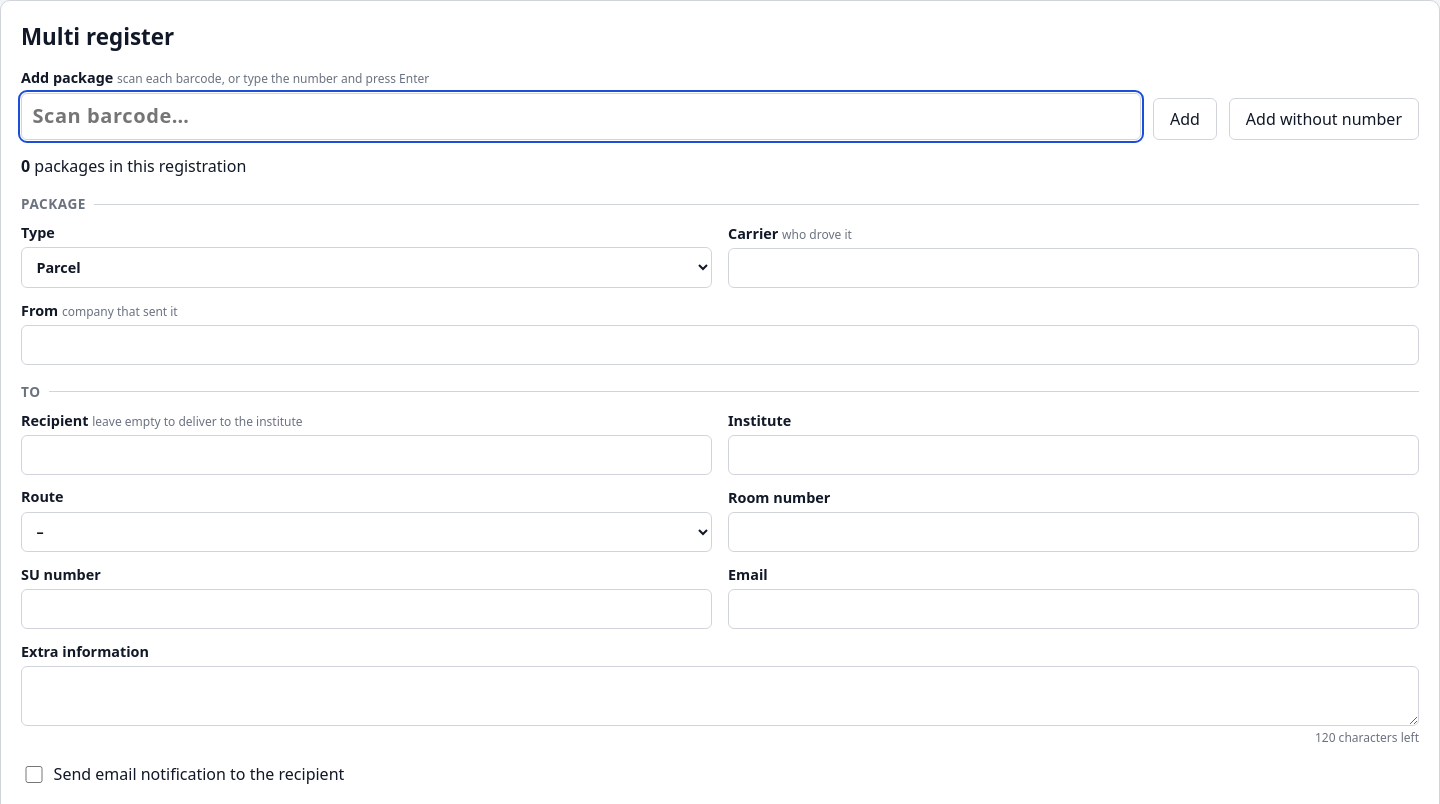
it: packages without a number can be added and removed
Click the button "Add without number" at (1324, 119), box [1229, 98, 1419, 140]
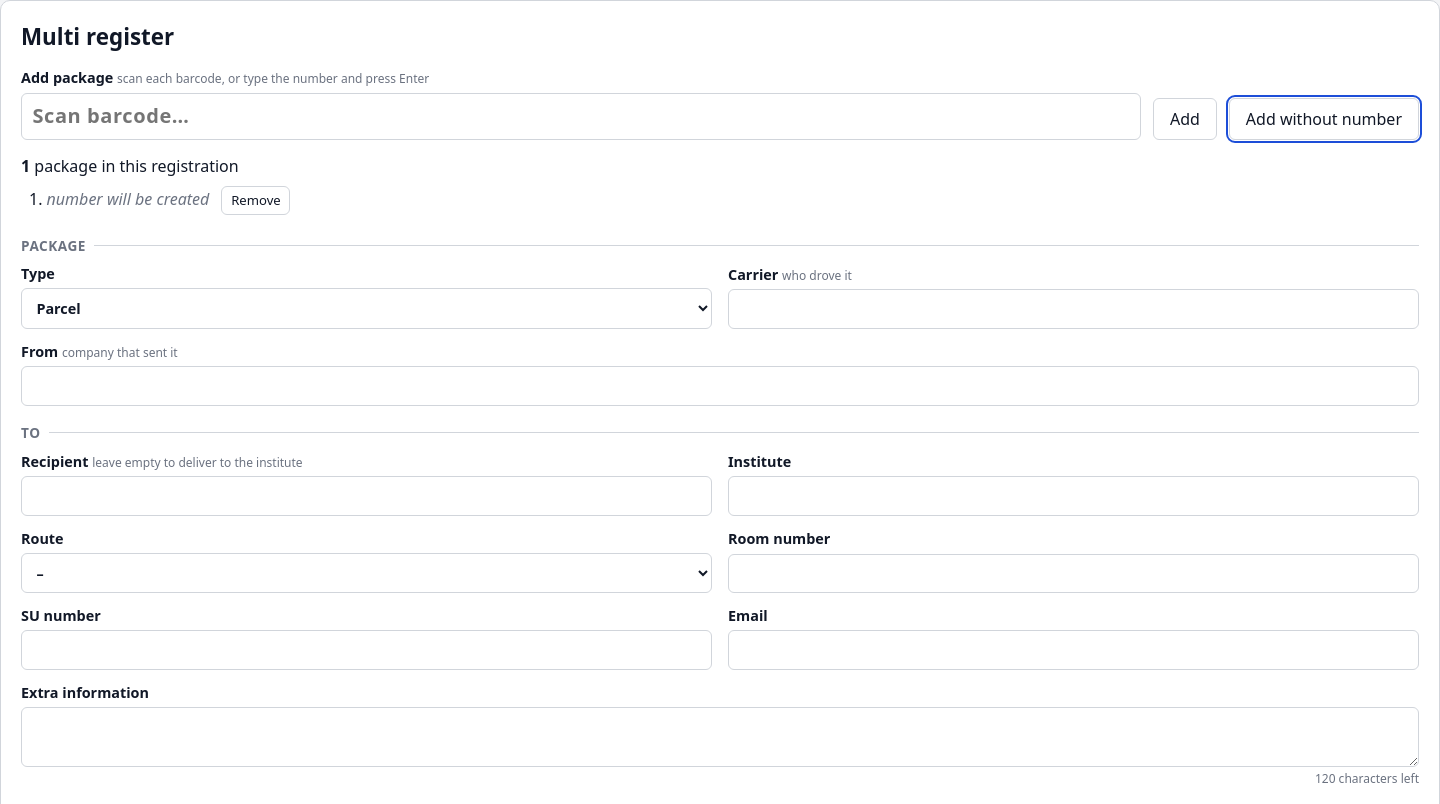
Click the button "Add without number" at (1324, 119), box [1229, 98, 1419, 140]
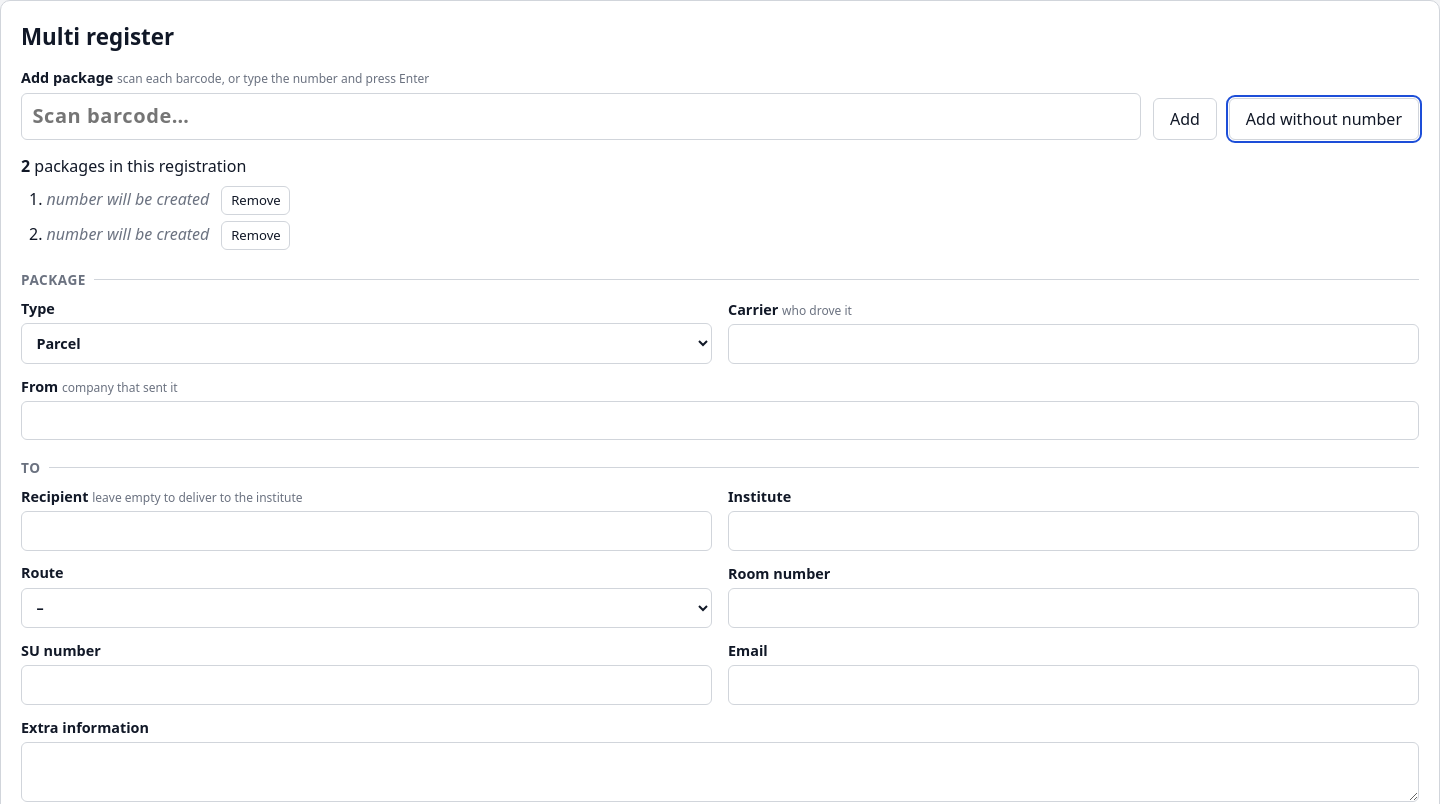
Now the text "number will be created" is shown 2 times, box [47, 188, 209, 210]; [47, 223, 209, 245]
Click the 1st button "Remove" at (256, 201), box [221, 186, 290, 215]
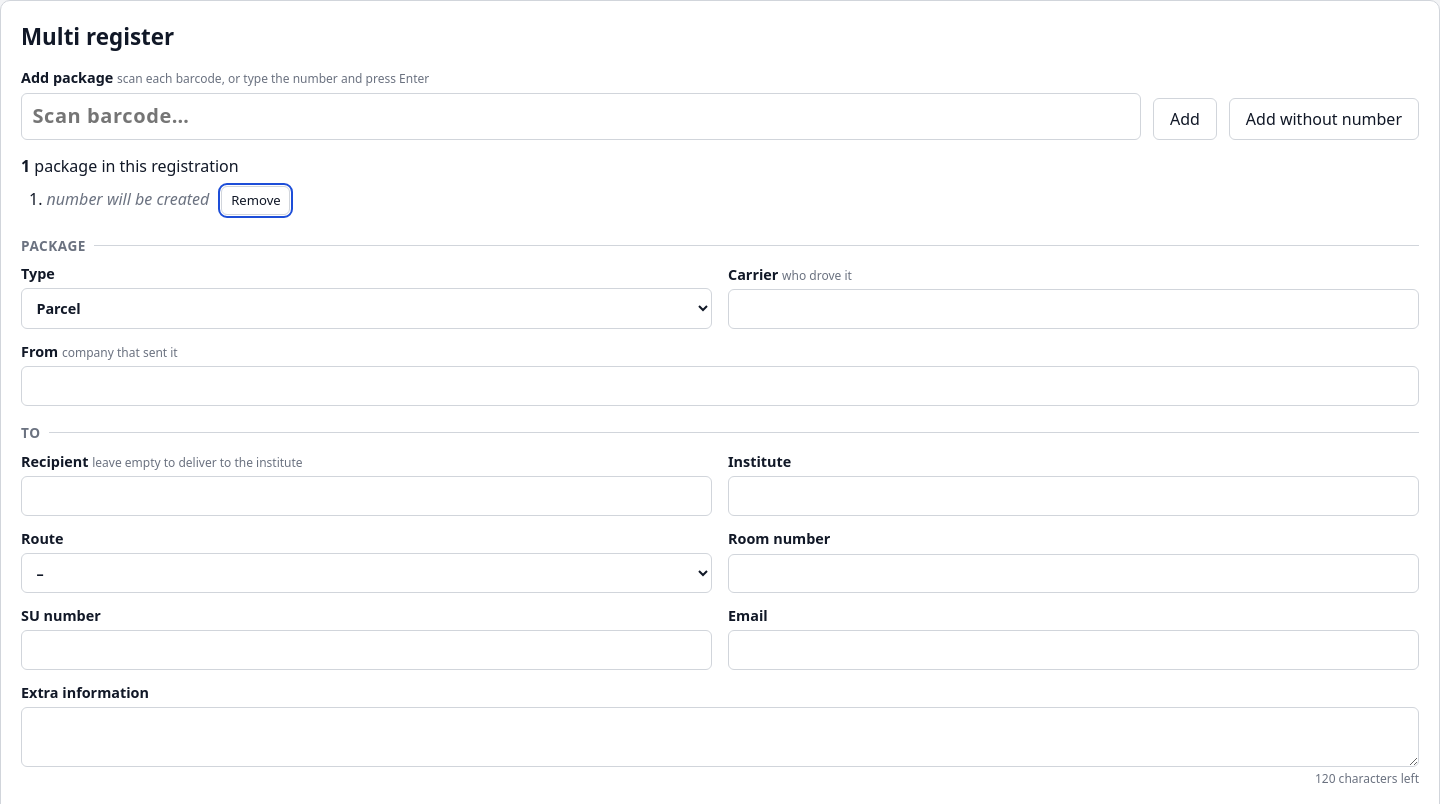
Now the text "number will be created" is shown once, box [47, 188, 209, 210]
